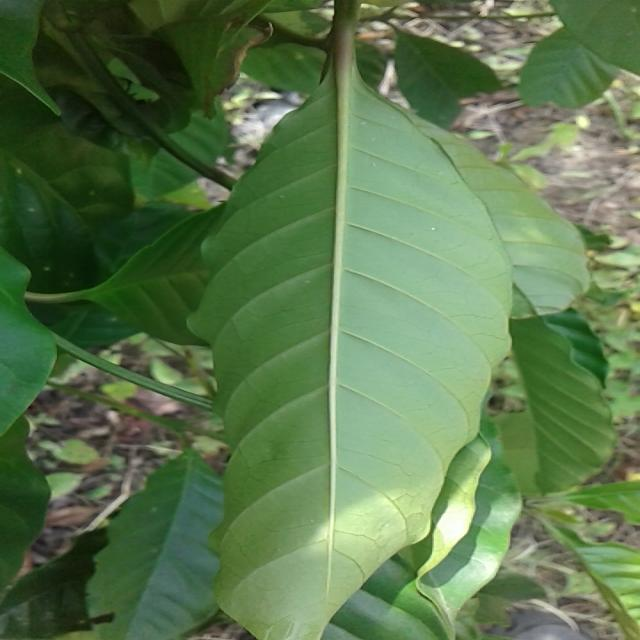Sanas: (166, 79, 512, 640)
